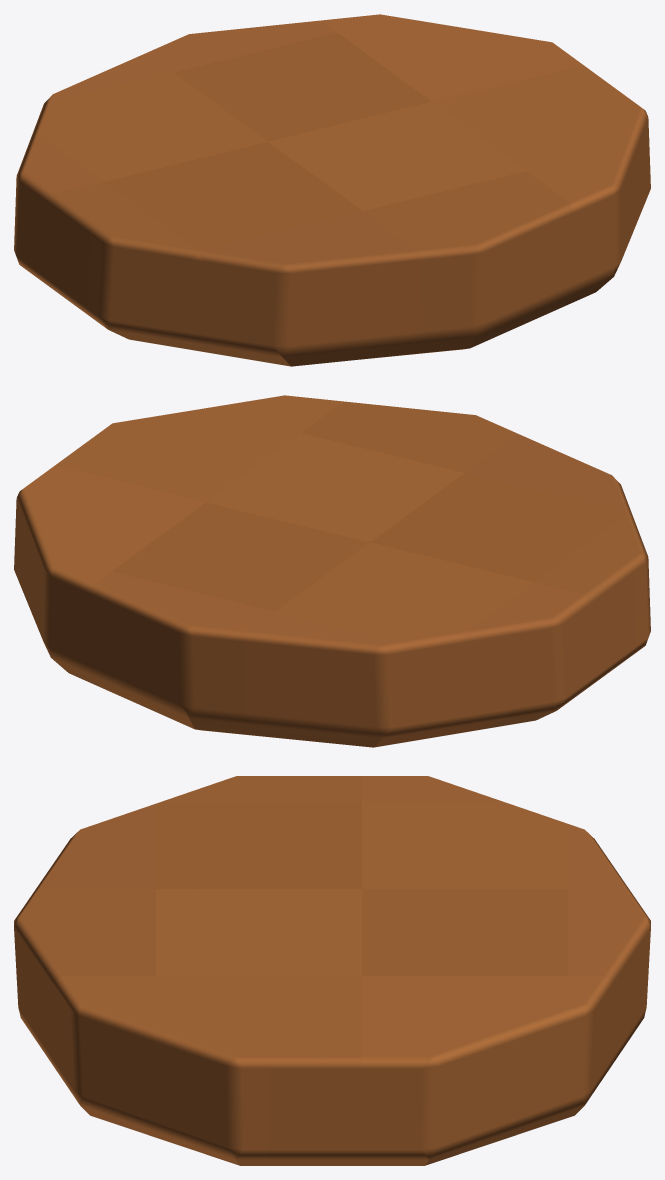
File: Neck-lip.glb
The picture shows the model from 3 angles, top to bottom: view 1: azimuth 30°, elevation 25°; view 2: azimuth 150°, elevation 25°; view 3: azimuth 270°, elevation 25°; orthographic projection. The views are drawn at different scales.
Visible parts, largest first — view 1: Neck-lip; view 2: Neck-lip; view 3: Neck-lip.
Part boxes in pixels (x1,y1,x2,y2): Neck-lip: (14, 14, 650, 366); Neck-lip: (14, 395, 650, 747); Neck-lip: (14, 776, 650, 1165).
Size of the model in its own units: 0.1311 by 0.026 by 0.1209.
1 material, 1 textured.
